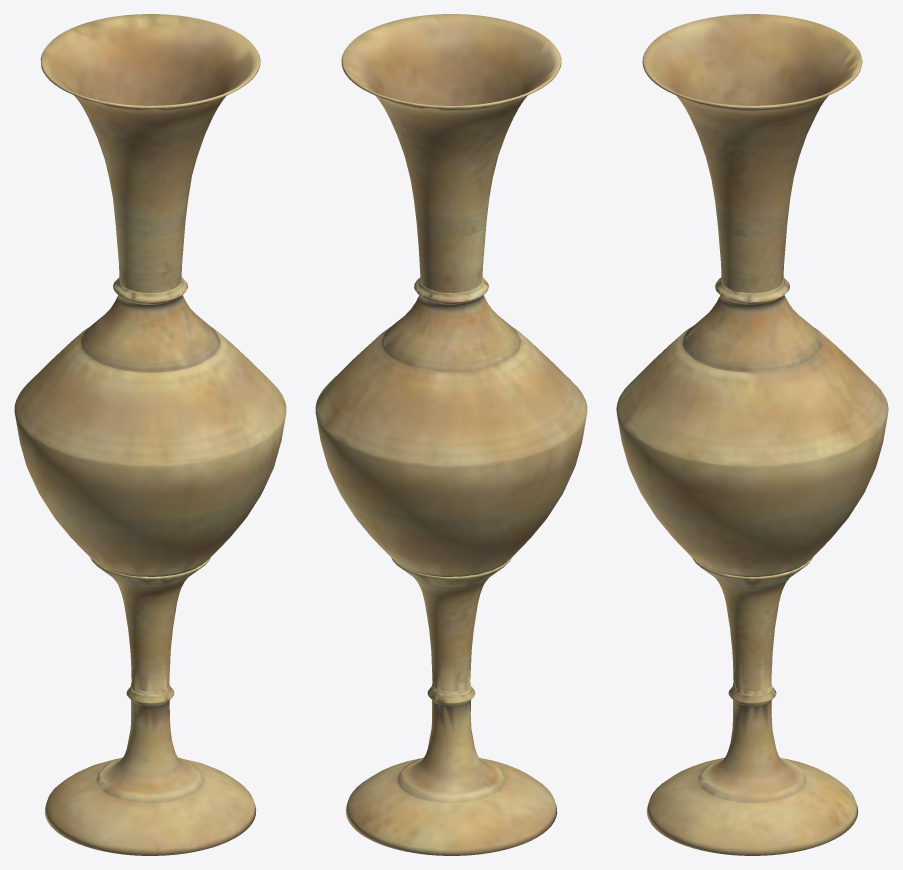
File: th_messingvase.glb
3 renders of one model, left to right at view 1: azimuth 30°, elevation 25°; view 2: azimuth 150°, elevation 25°; view 3: azimuth 270°, elevation 25°, orthographic.
Visible parts, largest first — view 1: brass_vase_01; view 2: brass_vase_01; view 3: brass_vase_01.
Part boxes in pixels (left/top/right/bottom): brass_vase_01: left=14, top=14, right=286, bottom=855; brass_vase_01: left=315, top=14, right=587, bottom=855; brass_vase_01: left=616, top=14, right=888, bottom=855.
Bounding box in the file's own units: 0.2273 × 0.6925 × 0.2273.
Materials: 1 (1 with a texture image).
